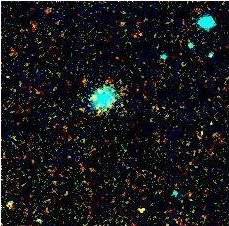star: (126, 194, 156, 224)
